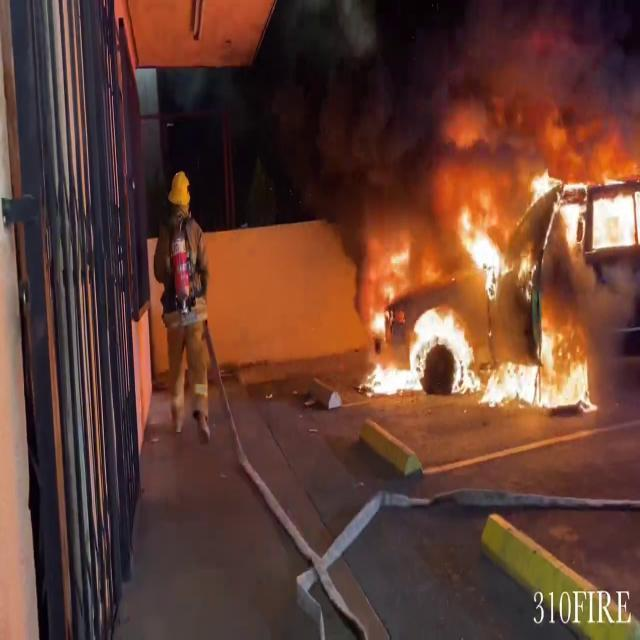Fire: (356, 104, 622, 412)
